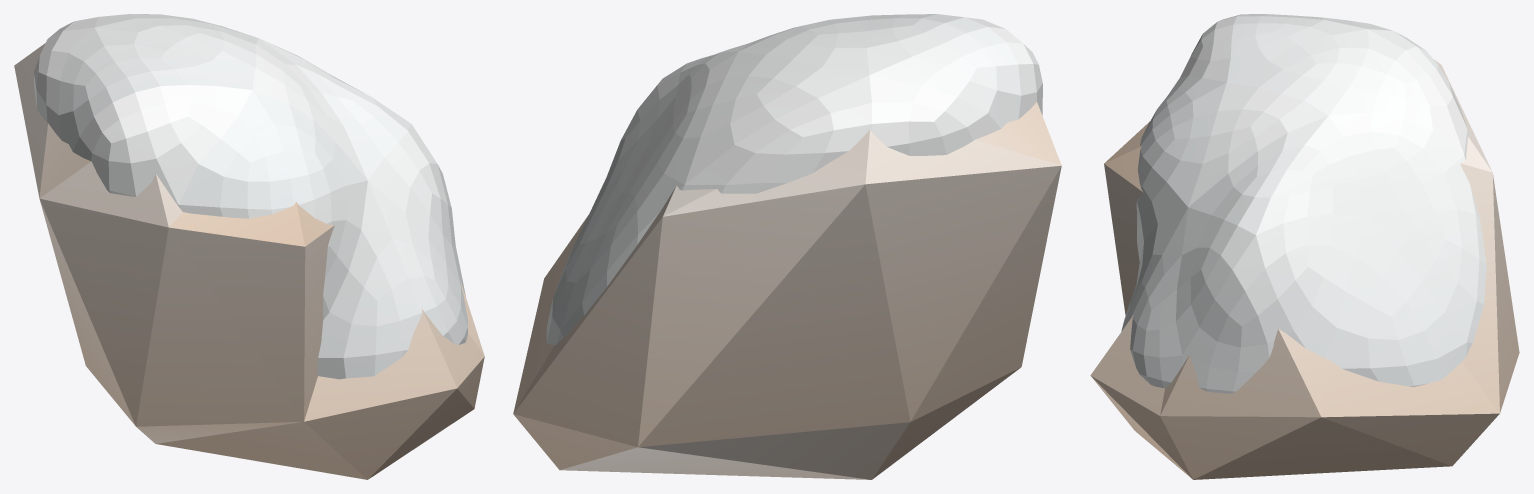
Rendered from roche3_complet.fbx.
3 views of the same model, side by side, from view 1: azimuth 30°, elevation 25°; view 2: azimuth 150°, elevation 25°; view 3: azimuth 270°, elevation 25° (orthographic). The views are drawn at different scales.
Parts seen in each view (by area): view 1: Cube.004, Cube.008; view 2: Cube.004, Cube.008; view 3: Cube.008, Cube.004.
Boxes of the visible parts, left/top/right/bottom form: Cube.004: left=14, top=43, right=484, bottom=479; Cube.008: left=34, top=14, right=467, bottom=379; Cube.004: left=513, top=102, right=1061, bottom=479; Cube.008: left=546, top=14, right=1042, bottom=345; Cube.008: left=1121, top=14, right=1486, bottom=393; Cube.004: left=1090, top=59, right=1519, bottom=479.
Size of the model in its own units: 2.6 by 2.3 by 2.5.
Materials: 1 (1 with a texture image).
